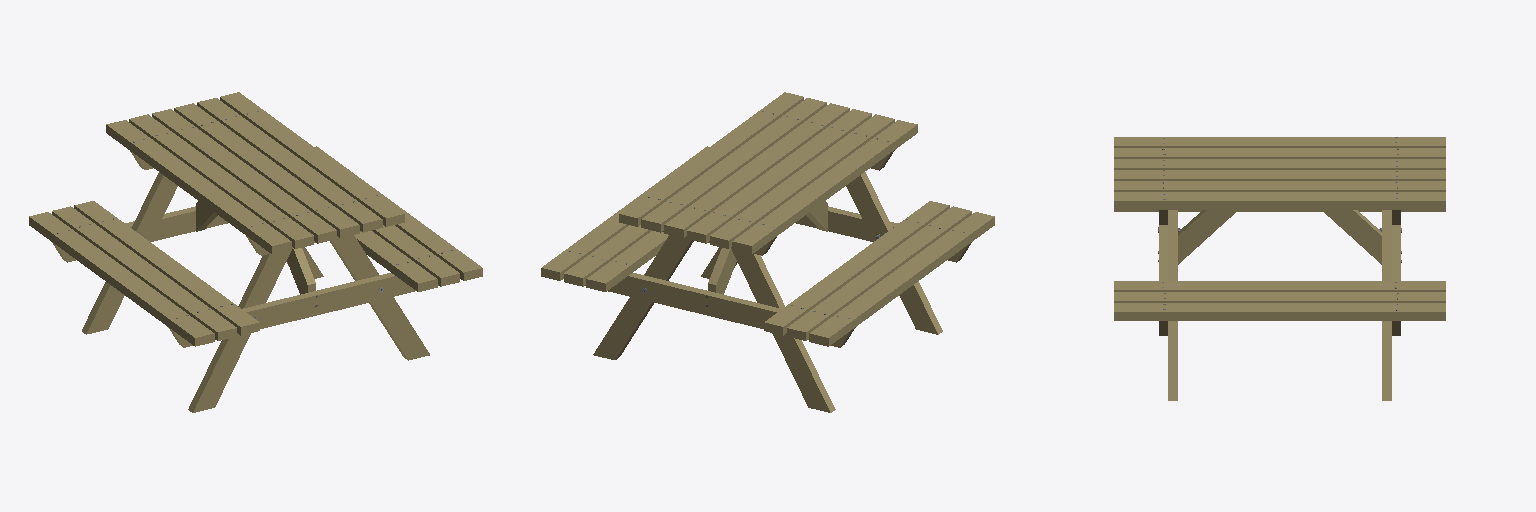
The picture shows the model from 3 angles: view 1: azimuth 30°, elevation 25°; view 2: azimuth 150°, elevation 25°; view 3: azimuth 270°, elevation 25°; orthographic projection.
Parts seen in each view (by area): view 1: Mesh106_seat_and_table10_Group1_Model, Mesh99_seat_and_table5_Group22_Group1_Model, Mesh4_cross_member_seat_support1_Group2_Group1_Model, Mesh107_seat_and_table11_Group1_Model, Mesh96_seat_and_table2_Group22_Group1_Model, Mesh95_seat_and_table1_Group22_Group1_Model, Mesh97_seat_and_table3_Group22_Group1_Model, Mesh100_seat_and_table6_Group22_Group1_Model, Mesh98_seat_and_table4_Group22_Group1_Model, Mesh108_seat_and_table12_Group1_Model, Mesh6_leg2_Group2_Group1_Model, Mesh5_leg1_Group2_Group1_Model (+6 smaller); view 2: Mesh106_seat_and_table10_Group1_Model, Mesh99_seat_and_table5_Group22_Group1_Model, Mesh68_cross_member_seat_support2_Group20_Group1_Model, Mesh96_seat_and_table2_Group22_Group1_Model, Mesh107_seat_and_table11_Group1_Model, Mesh95_seat_and_table1_Group22_Group1_Model, Mesh97_seat_and_table3_Group22_Group1_Model, Mesh100_seat_and_table6_Group22_Group1_Model, Mesh98_seat_and_table4_Group22_Group1_Model, Mesh108_seat_and_table12_Group1_Model, Mesh69_leg3_Group20_Group1_Model, Mesh70_leg4_Group20_Group1_Model (+6 smaller); view 3: Mesh100_seat_and_table6_Group22_Group1_Model, Mesh103_seat_and_table8_Group1_Model, Mesh96_seat_and_table2_Group22_Group1_Model, Mesh97_seat_and_table3_Group22_Group1_Model, Mesh101_seat_and_table7_Group1_Model, Mesh104_seat_and_table9_Group1_Model, Mesh99_seat_and_table5_Group22_Group1_Model, Mesh95_seat_and_table1_Group22_Group1_Model, Mesh98_seat_and_table4_Group22_Group1_Model, Mesh5_leg1_Group2_Group1_Model, Mesh70_leg4_Group20_Group1_Model, Mesh109_brace2_Group1_Model (+3 smaller).
Boxes of the visible parts, box(x1,y1,x2,y2) form: Mesh106_seat_and_table10_Group1_Model: box(29, 212, 214, 346); Mesh99_seat_and_table5_Group22_Group1_Model: box(106, 120, 291, 254); Mesh4_cross_member_seat_support1_Group2_Group1_Model: box(168, 273, 438, 347); Mesh107_seat_and_table11_Group1_Model: box(74, 201, 259, 335); Mesh96_seat_and_table2_Group22_Group1_Model: box(174, 103, 359, 237); Mesh95_seat_and_table1_Group22_Group1_Model: box(197, 98, 382, 232); Mesh97_seat_and_table3_Group22_Group1_Model: box(152, 109, 336, 243); Mesh100_seat_and_table6_Group22_Group1_Model: box(220, 92, 404, 226); Mesh98_seat_and_table4_Group22_Group1_Model: box(129, 114, 313, 248); Mesh108_seat_and_table12_Group1_Model: box(52, 206, 236, 340); Mesh6_leg2_Group2_Group1_Model: box(188, 248, 292, 412); Mesh5_leg1_Group2_Group1_Model: box(330, 235, 429, 360); Mesh106_seat_and_table10_Group1_Model: box(809, 212, 994, 346); Mesh99_seat_and_table5_Group22_Group1_Model: box(732, 120, 917, 254); Mesh68_cross_member_seat_support2_Group20_Group1_Model: box(585, 273, 855, 347); Mesh96_seat_and_table2_Group22_Group1_Model: box(664, 103, 849, 237); Mesh107_seat_and_table11_Group1_Model: box(764, 201, 949, 335); Mesh95_seat_and_table1_Group22_Group1_Model: box(641, 98, 826, 232); Mesh97_seat_and_table3_Group22_Group1_Model: box(687, 109, 871, 243); Mesh100_seat_and_table6_Group22_Group1_Model: box(619, 92, 803, 226); Mesh98_seat_and_table4_Group22_Group1_Model: box(710, 114, 894, 248); Mesh108_seat_and_table12_Group1_Model: box(787, 206, 971, 340); Mesh69_leg3_Group20_Group1_Model: box(731, 248, 835, 412); Mesh70_leg4_Group20_Group1_Model: box(593, 235, 693, 359); Mesh100_seat_and_table6_Group22_Group1_Model: box(1114, 192, 1445, 209); Mesh103_seat_and_table8_Group1_Model: box(1114, 303, 1445, 320); Mesh96_seat_and_table2_Group22_Group1_Model: box(1114, 170, 1445, 180); Mesh97_seat_and_table3_Group22_Group1_Model: box(1114, 159, 1445, 169); Mesh101_seat_and_table7_Group1_Model: box(1114, 292, 1445, 302); Mesh104_seat_and_table9_Group1_Model: box(1114, 281, 1445, 291); Mesh99_seat_and_table5_Group22_Group1_Model: box(1114, 137, 1445, 147); Mesh95_seat_and_table1_Group22_Group1_Model: box(1114, 181, 1445, 191); Mesh98_seat_and_table4_Group22_Group1_Model: box(1114, 148, 1445, 158); Mesh5_leg1_Group2_Group1_Model: box(1168, 210, 1177, 400); Mesh70_leg4_Group20_Group1_Model: box(1382, 210, 1391, 400); Mesh109_brace2_Group1_Model: box(1178, 210, 1237, 264).
Size of the model in its own units: 21.67 by 12.56 by 21.67.
Materials: 6 (4 with a texture image).